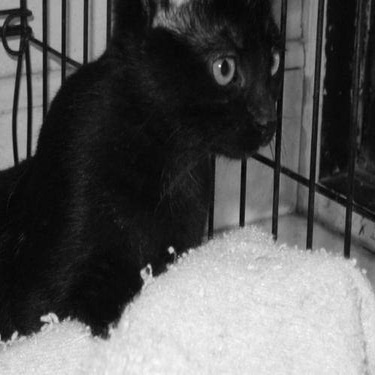cat: (1, 1, 296, 339)
